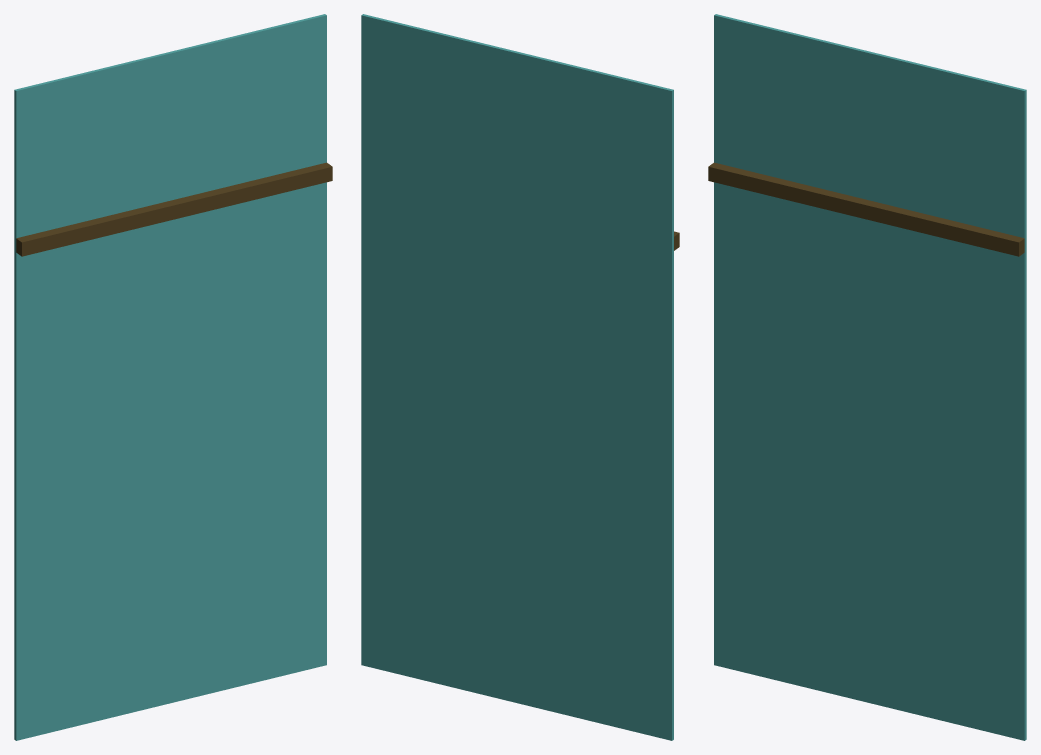
File: inside wall 2m.fbx
3 renders of one model, left to right at view 1: azimuth 30°, elevation 25°; view 2: azimuth 150°, elevation 25°; view 3: azimuth 330°, elevation 25°, orthographic.
Visible parts, largest first — view 1: Simple Wall Mesh; view 2: Simple Wall Mesh; view 3: Simple Wall Mesh.
Part boxes in pixels (x1=…): Simple Wall Mesh: x1=14, y1=14, x2=332, y2=740; Simple Wall Mesh: x1=361, y1=14, x2=679, y2=740; Simple Wall Mesh: x1=708, y1=14, x2=1026, y2=740.
Size of the model in its own units: 200 by 400 by 8.44.
